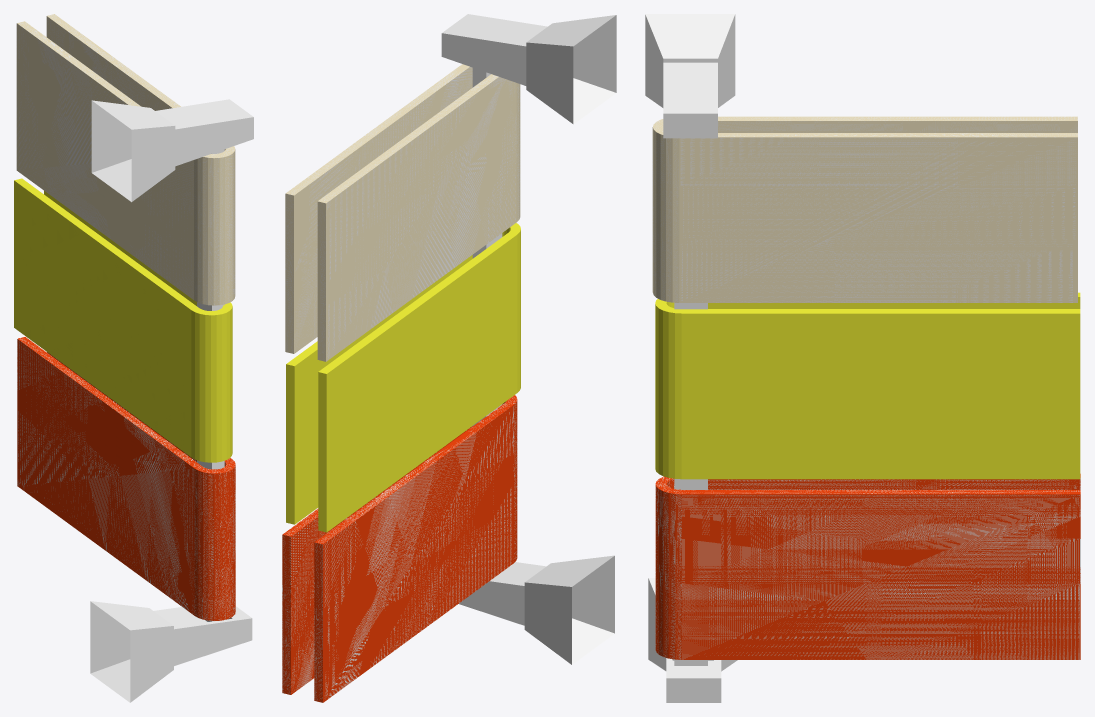
3 renders of one model, left to right at view 1: azimuth 30°, elevation 25°; view 2: azimuth 150°, elevation 25°; view 3: azimuth 270°, elevation 25°, orthographic. The views are drawn at different scales.
Visible parts, largest first — view 1: towel holder with mutiple hand towels medium poly; view 2: towel holder with mutiple hand towels medium poly; view 3: towel holder with mutiple hand towels medium poly.
Part boxes in pixels (x1,y1,x2,y2): towel holder with mutiple hand towels medium poly: [14, 14, 253, 702]; towel holder with mutiple hand towels medium poly: [282, 14, 616, 702]; towel holder with mutiple hand towels medium poly: [645, 14, 1080, 702].
Bounding box in the file's own units: 200 × 844 × 516.
